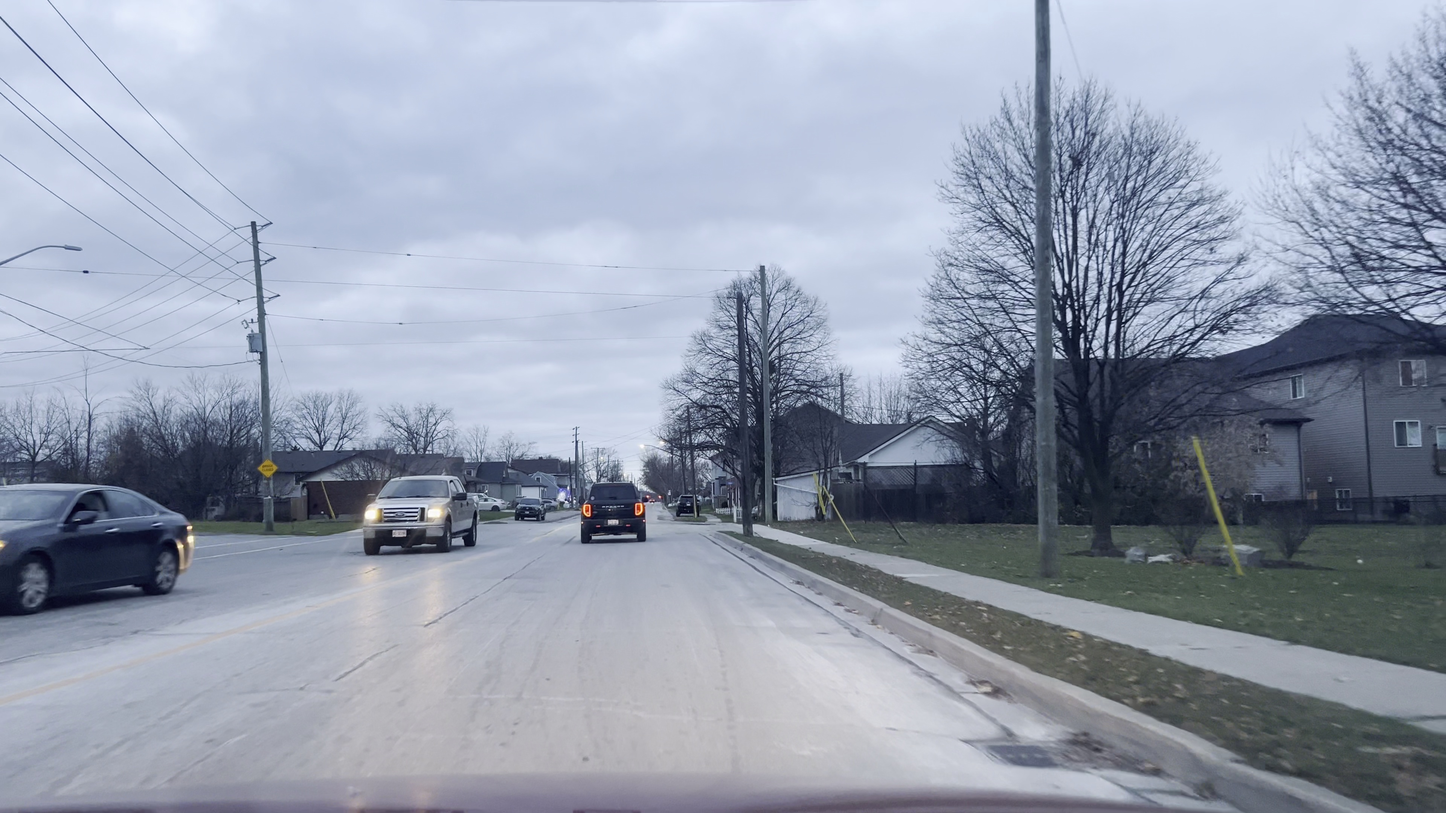pothole: (924, 696, 1176, 800)
